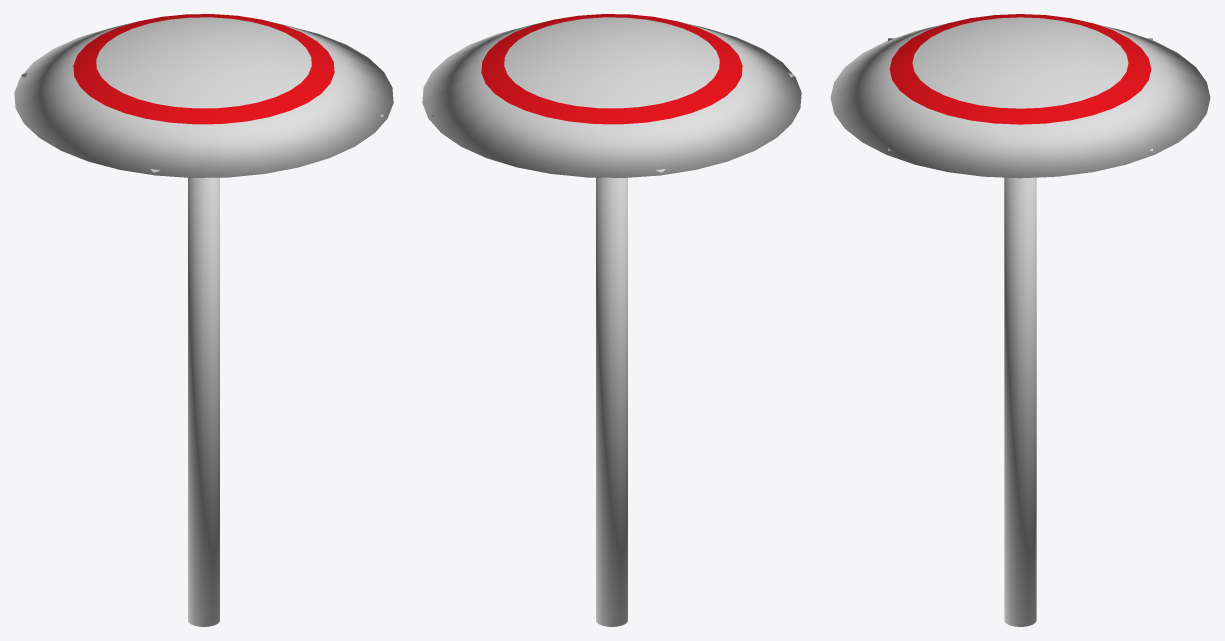
The model's file is NEU_m100_gps.dae.
The picture shows the model from 3 angles, left to right: view 1: azimuth 30°, elevation 25°; view 2: azimuth 150°, elevation 25°; view 3: azimuth 270°, elevation 25°; orthographic projection.
Parts seen in each view (by area): view 1: Cube; view 2: Cube; view 3: Cube.
Part boxes in pixels (x1,y1,x2,y2): Cube: (14,14,393,626); Cube: (422,14,801,626); Cube: (830,14,1210,626).
Size of the model in its own units: 0.0511 by 0.0511 by 0.0852.
